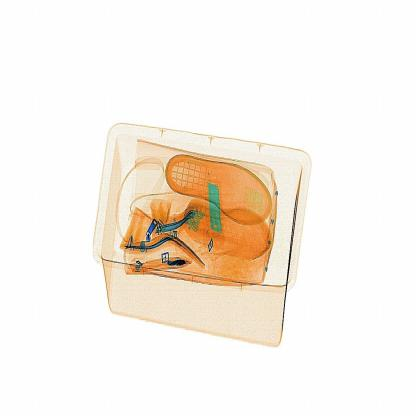pliers: (200, 170, 234, 262)
